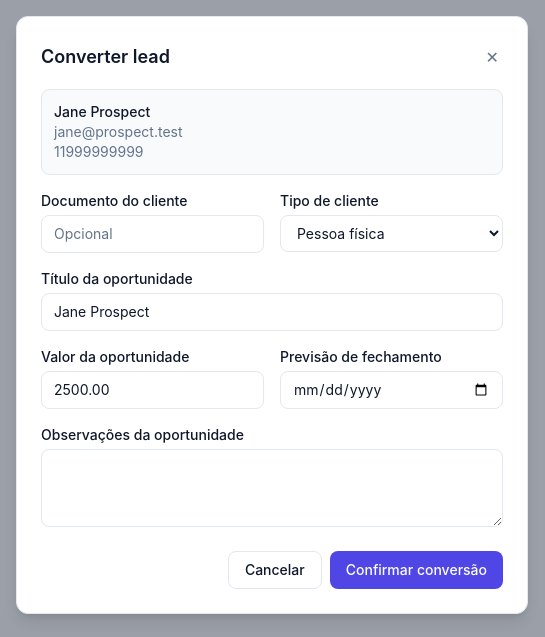
ConvertLeadModal › disables the confirm button while the mutation is pending, preventing double submit
Click the button "Confirmar conversão": (416,570) [330, 551, 503, 589]
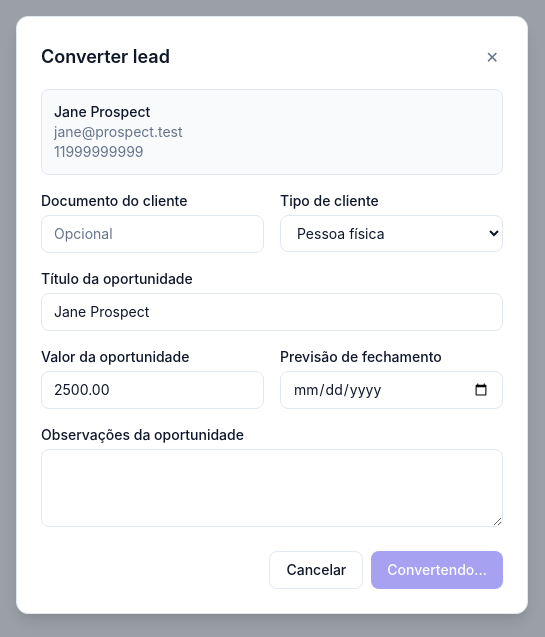
Result: the button "Convertendo…" is disabled at [371, 551, 503, 589]
